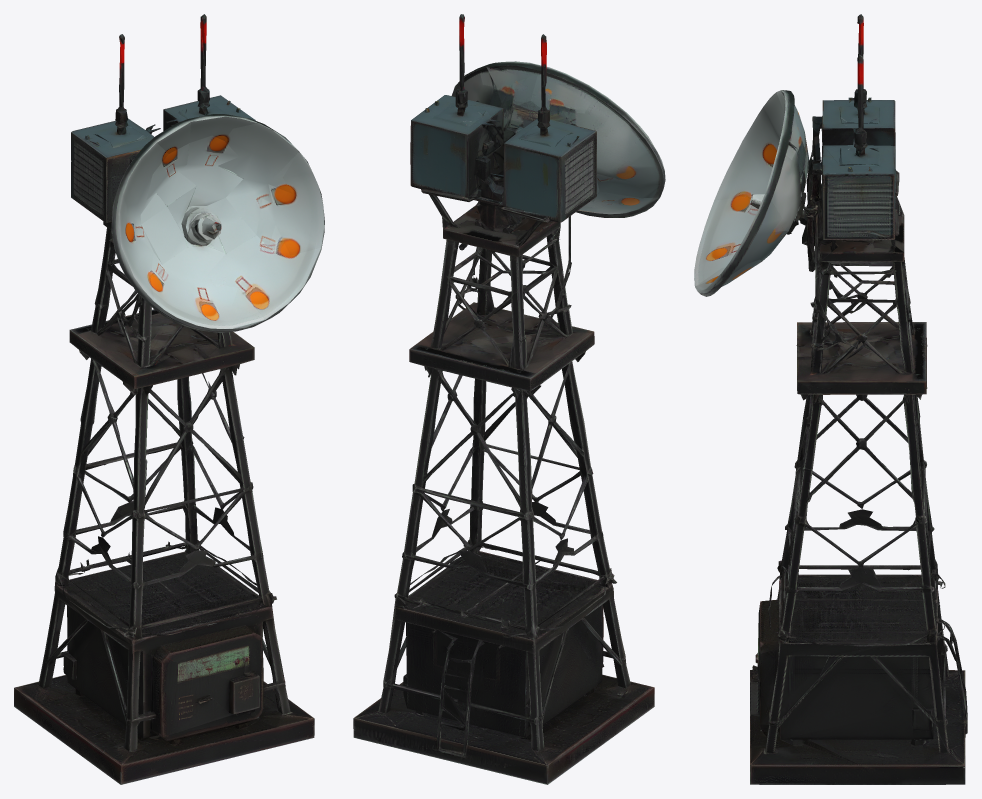
The model's file is obj_relay.B.raw.glb.
3 renders of one model, left to right at view 1: azimuth 30°, elevation 25°; view 2: azimuth 150°, elevation 25°; view 3: azimuth 270°, elevation 25°, orthographic.
Bounding box in the file's own units: 0.5902 × 1.9 × 0.6702.
Materials: 1 (1 with a texture image).
